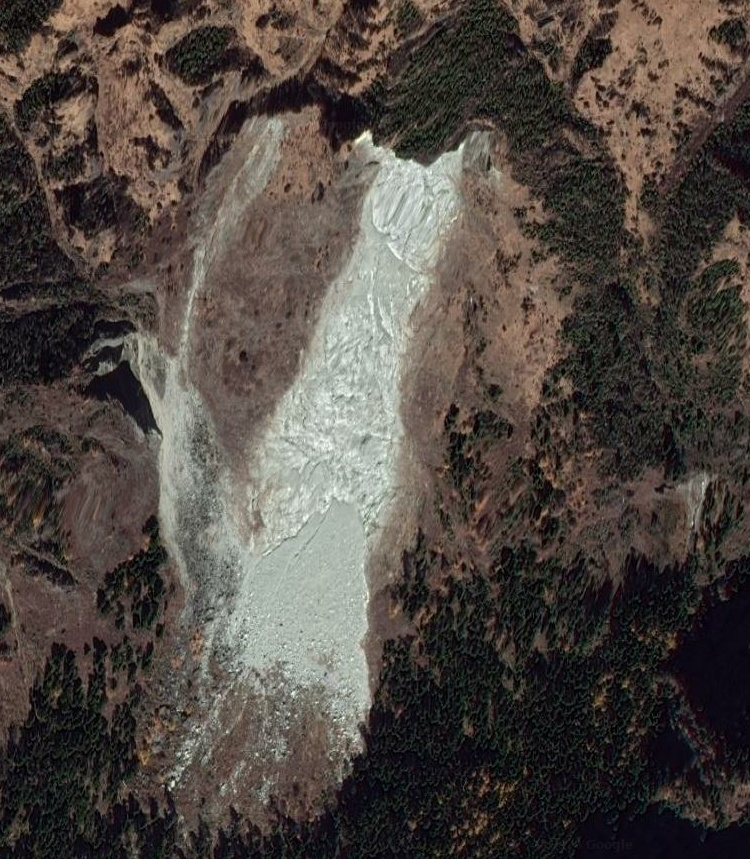slope: (228, 127, 471, 545)
